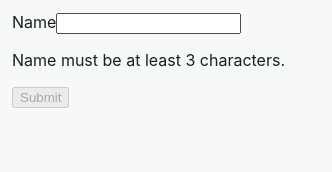
it: LegacySimpleForm (slide-13 waterfall) › cascades one keystroke into several commits
Type "ab" into the field labelled "Name" at coordinates (149, 24), box [56,13,241,34]
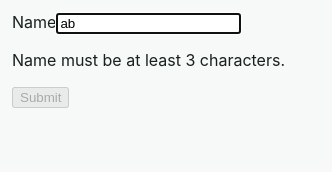
Expected: the text "Name must be at least 3 characters." is shown, [12,50,285,70]
Type "c" into the field labelled "Name" at coordinates (149, 24), box [56,13,241,34]
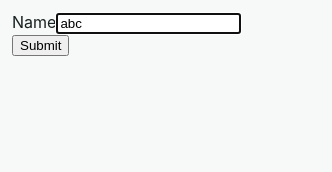
Now the text "Name must be at least 3 characters." is gone
Now the button "Submit" is enabled, box [12,35,70,56]
